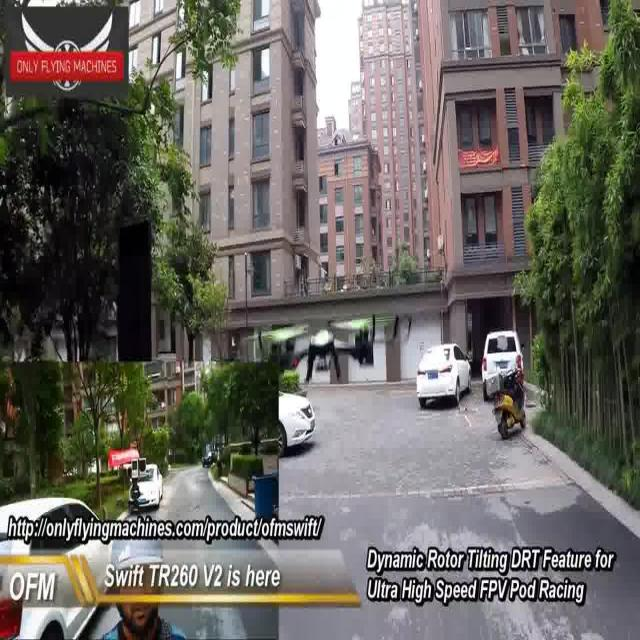drone: (268, 303, 416, 390)
